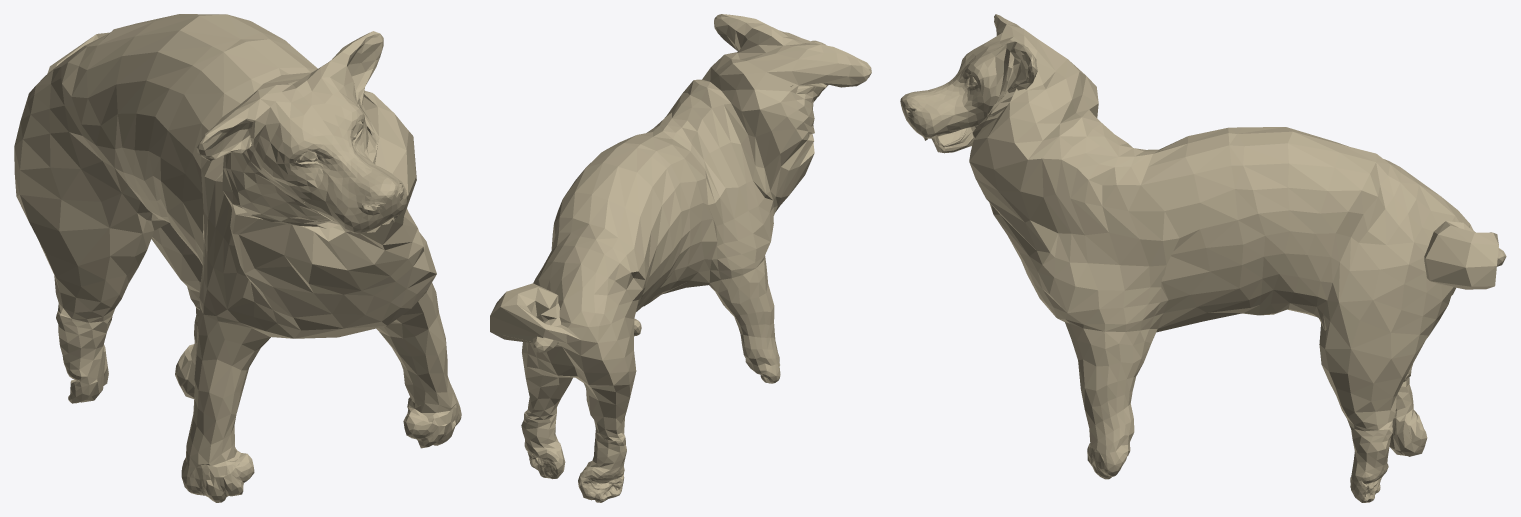
3 renders of one model, left to right at view 1: azimuth 30°, elevation 25°; view 2: azimuth 150°, elevation 25°; view 3: azimuth 270°, elevation 25°, orthographic. The views are drawn at different scales.
Visible parts, largest first — view 1: world; view 2: world; view 3: world.
Part boxes in pixels (x1,y1,x2,y2): world: (14,14,461,502); world: (490,14,871,502); world: (900,14,1506,502).
Bounding box in the file's own units: 0.5435 × 0.8324 × 1.07.
